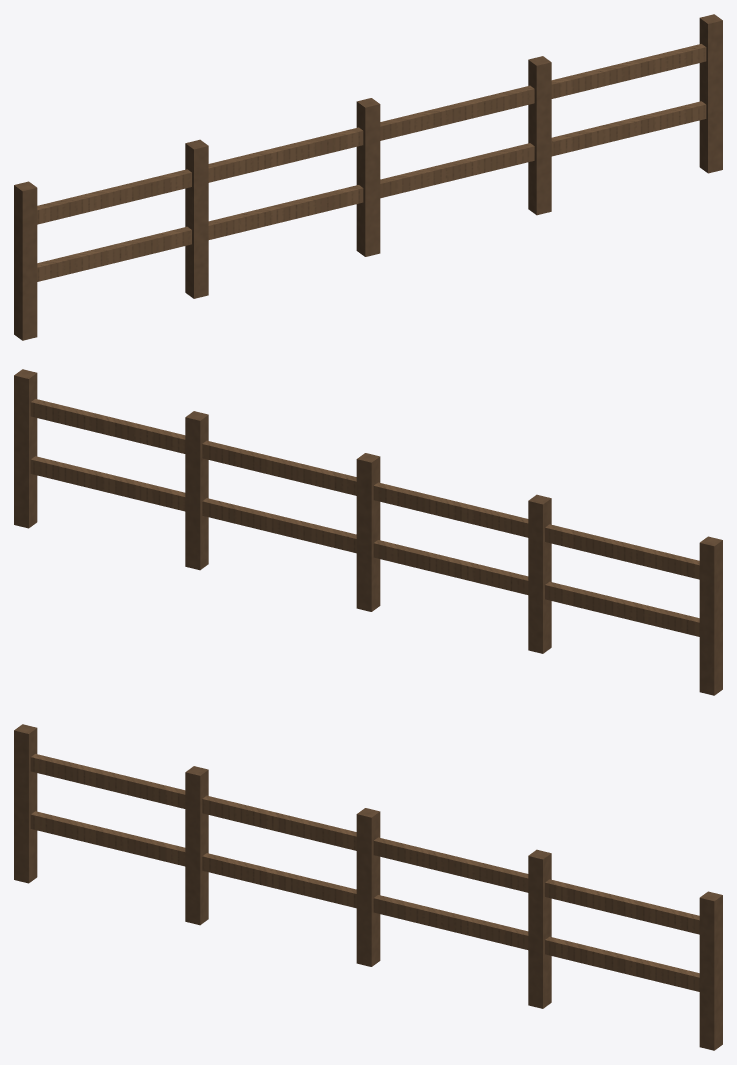
File: fence.glb
3 views of the same model, one above another, from view 1: azimuth 30°, elevation 25°; view 2: azimuth 150°, elevation 25°; view 3: azimuth 330°, elevation 25° (orthographic).
Parts seen in each view (by area): view 1: fence; view 2: fence; view 3: fence.
Boxes of the visible parts, <box> form: fence: <box>14,14,722,340</box>; fence: <box>14,369,722,695</box>; fence: <box>14,724,722,1050</box>.
Bounding box in the file's own units: 6.13 × 1.25 × 0.13.
1 material, 1 textured.
